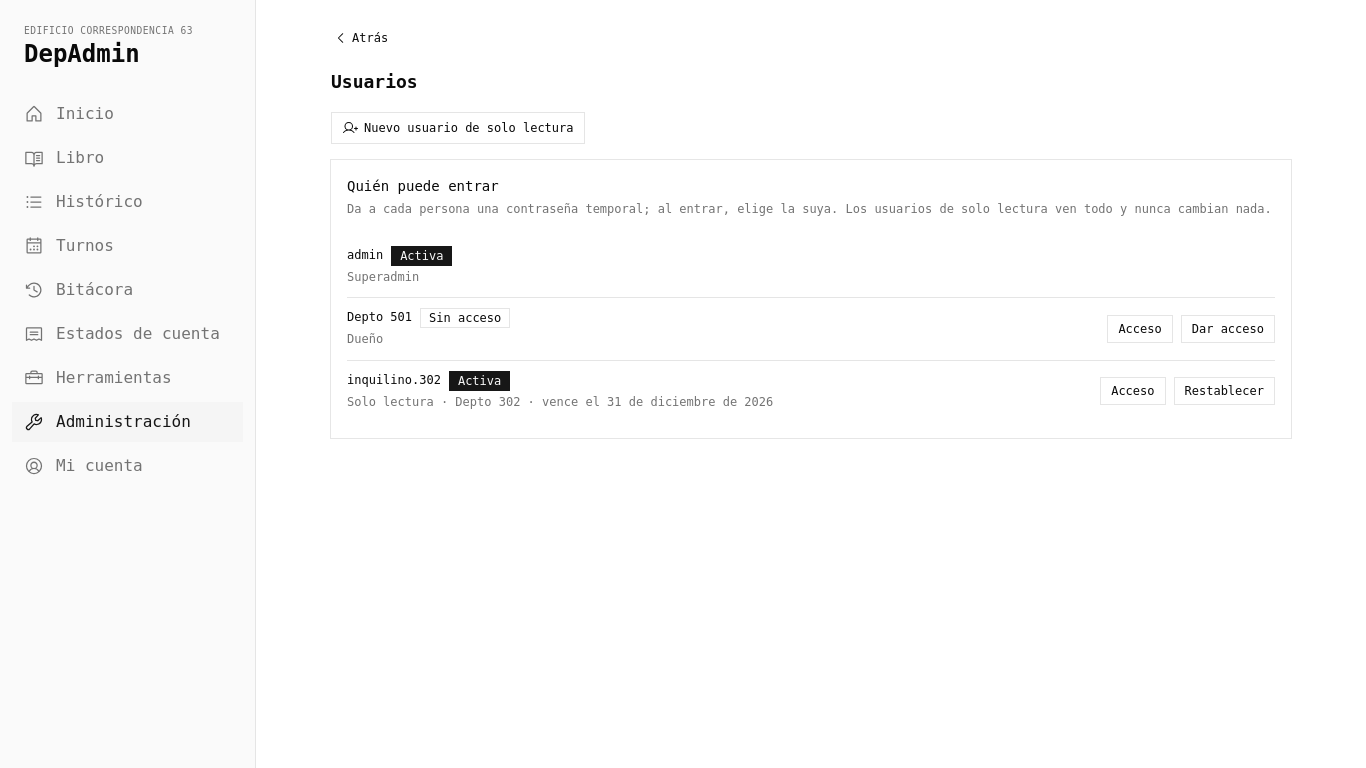
Scenario: UsersPage › creates a read-only user and shows its temporary password once
Click the button "Nuevo usuario de solo lectura": (458, 128) [331,112,584,144]
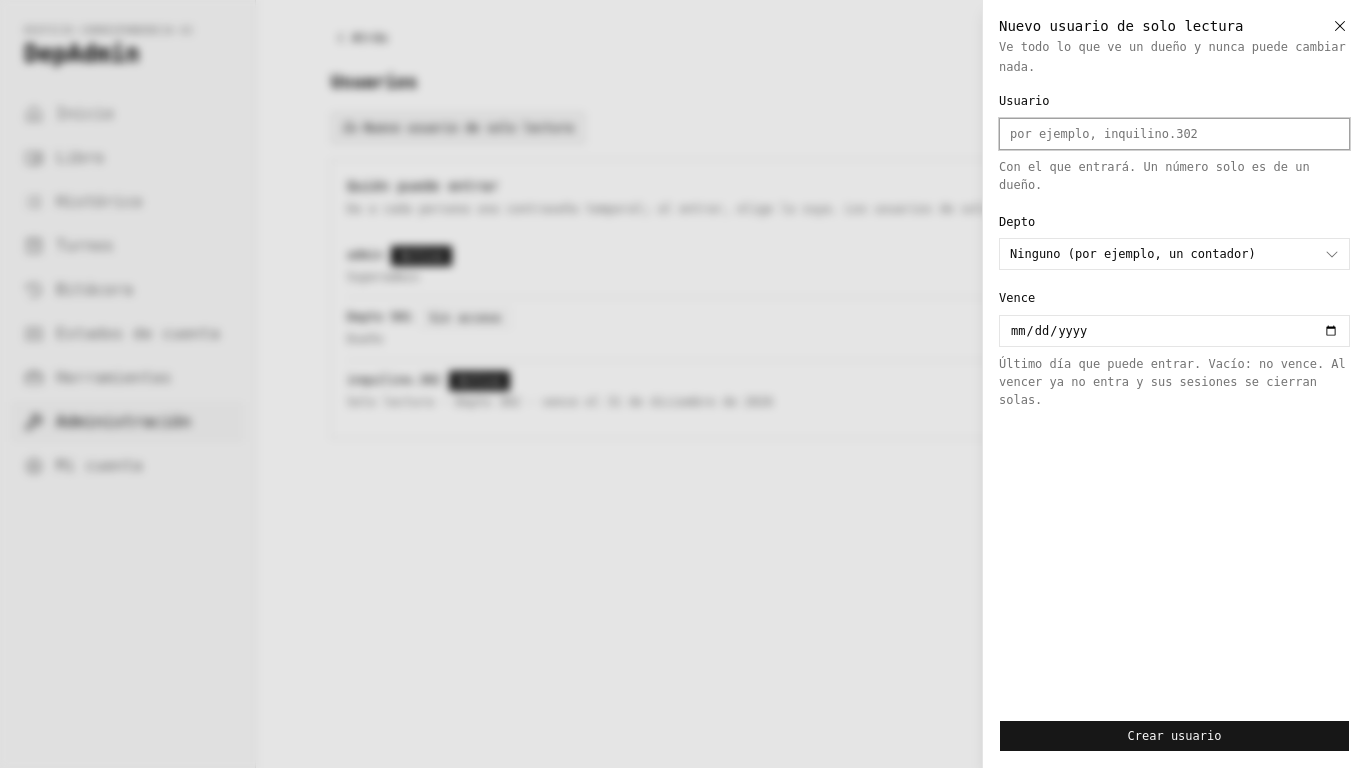
In the field labelled "Usuario": (1174, 134) [999,118,1350,150], type "401"
Click the button "Crear usuario": (1174, 736) [999,720,1350,752]
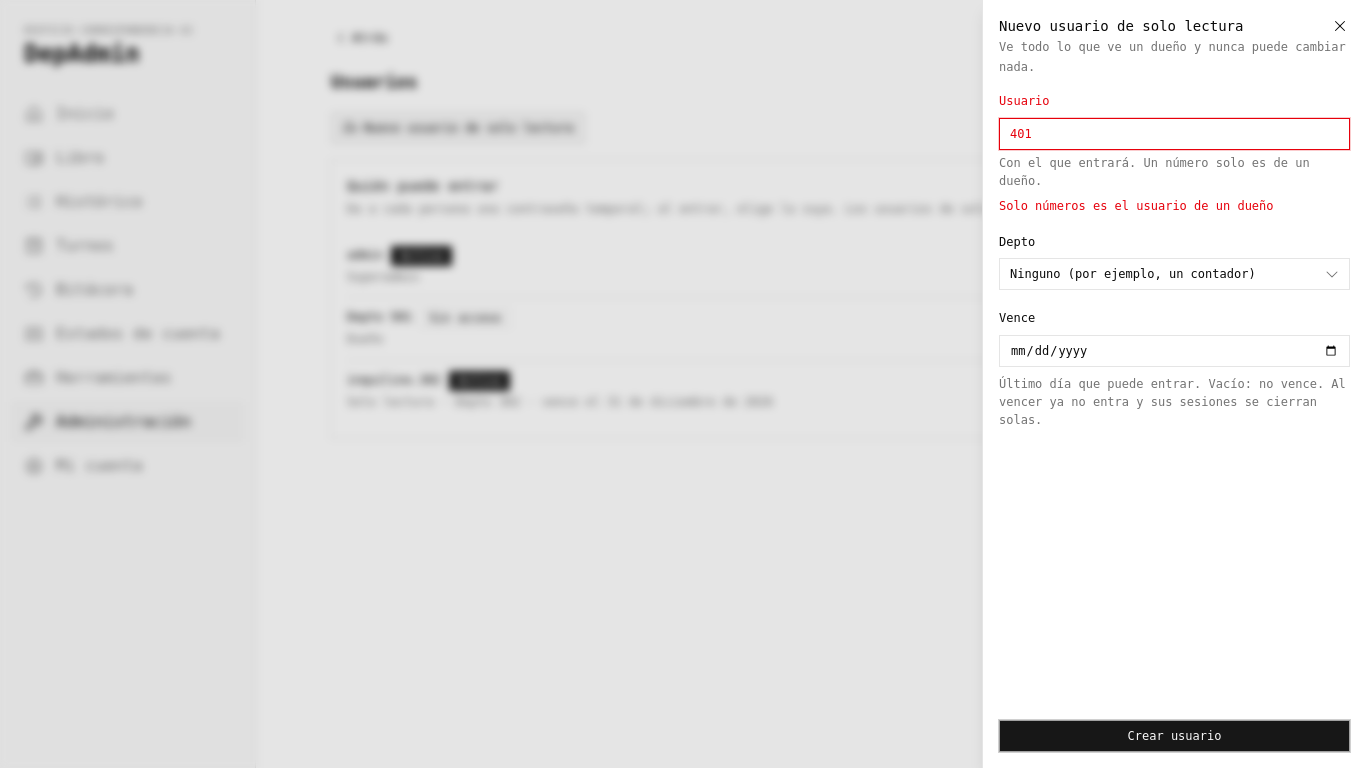
Now the text "Solo números es el usuario de un dueño" is shown, box [999,198,1274,212]
Replace the text in the field labelled "Usuario" with "Familia.401": (1174, 134) [999,118,1350,150]
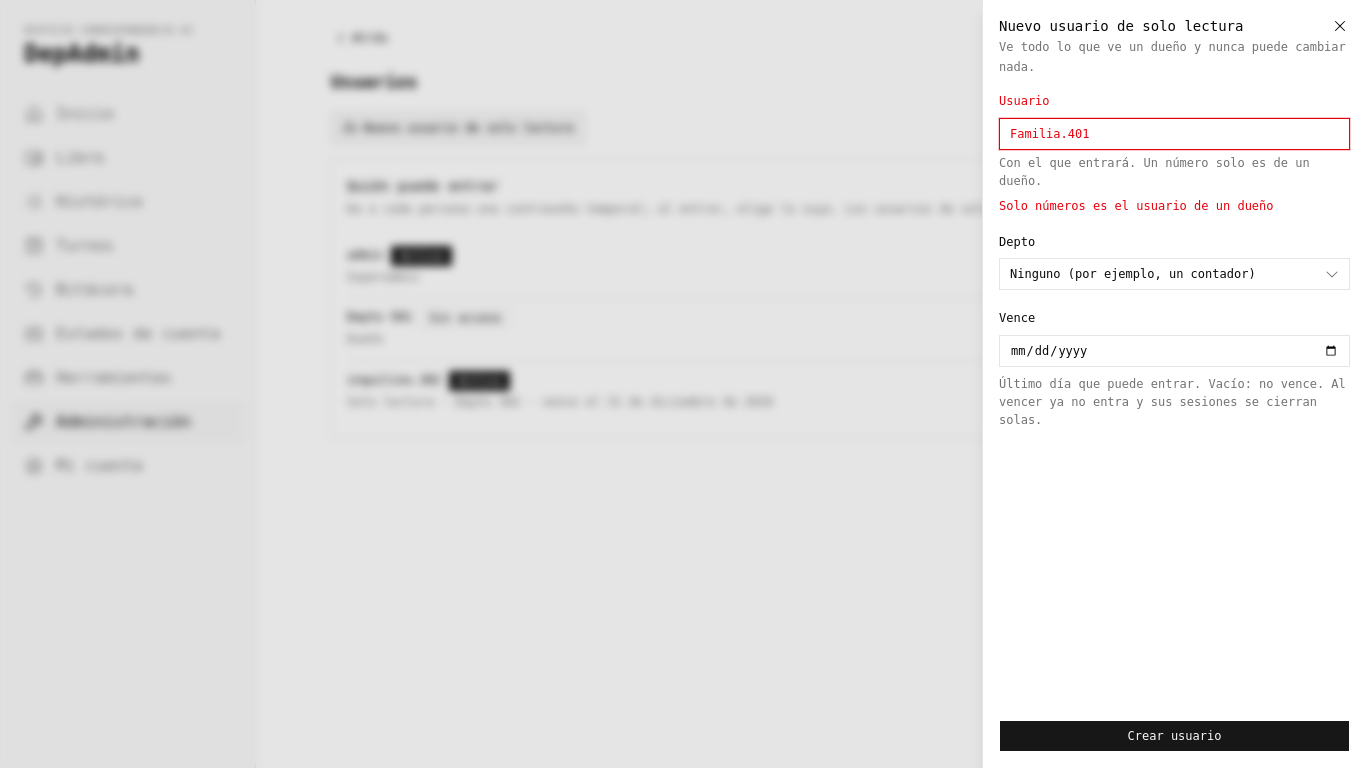
Select "Depto 401" in the dropdown labelled "Depto": (1174, 274) [999,258,1350,290]
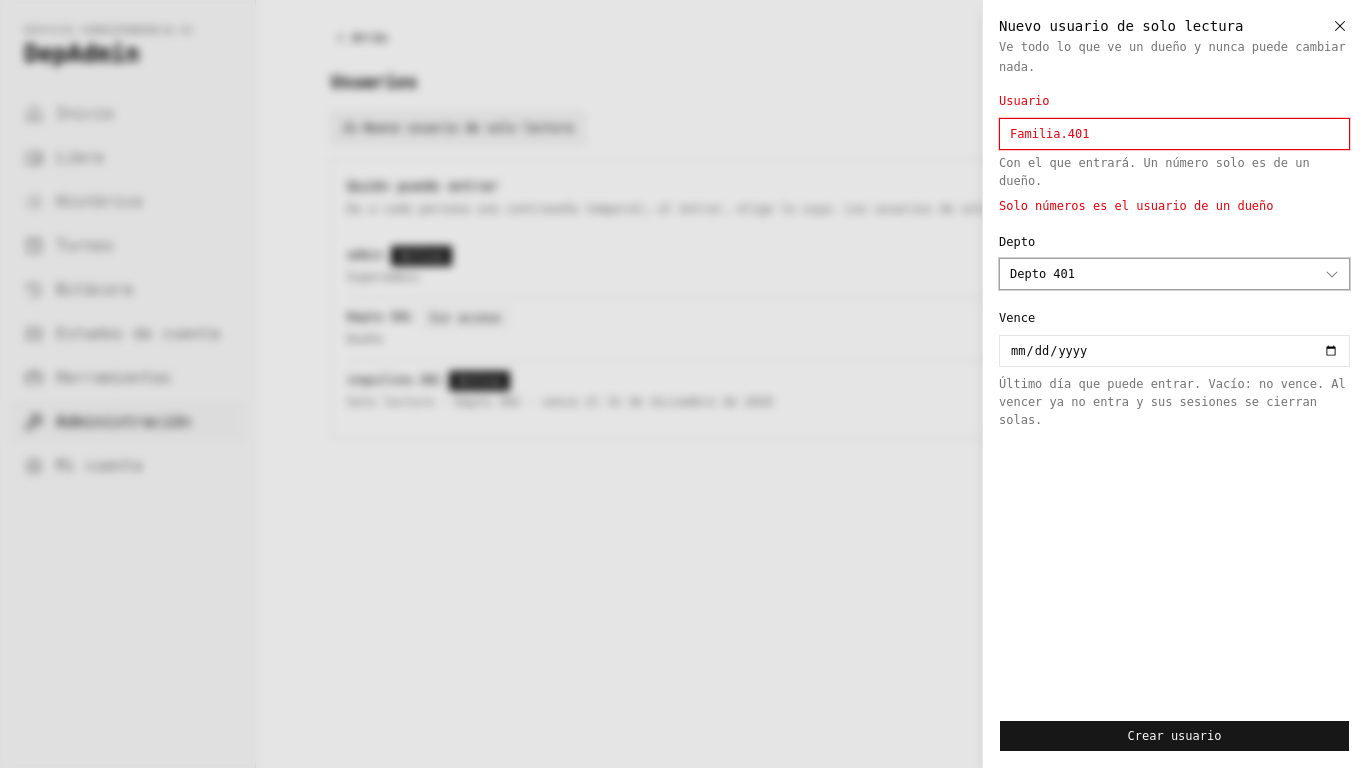
In the date field labelled "Vence": (1174, 350) [999,334,1350,366], type "2027-01-31"
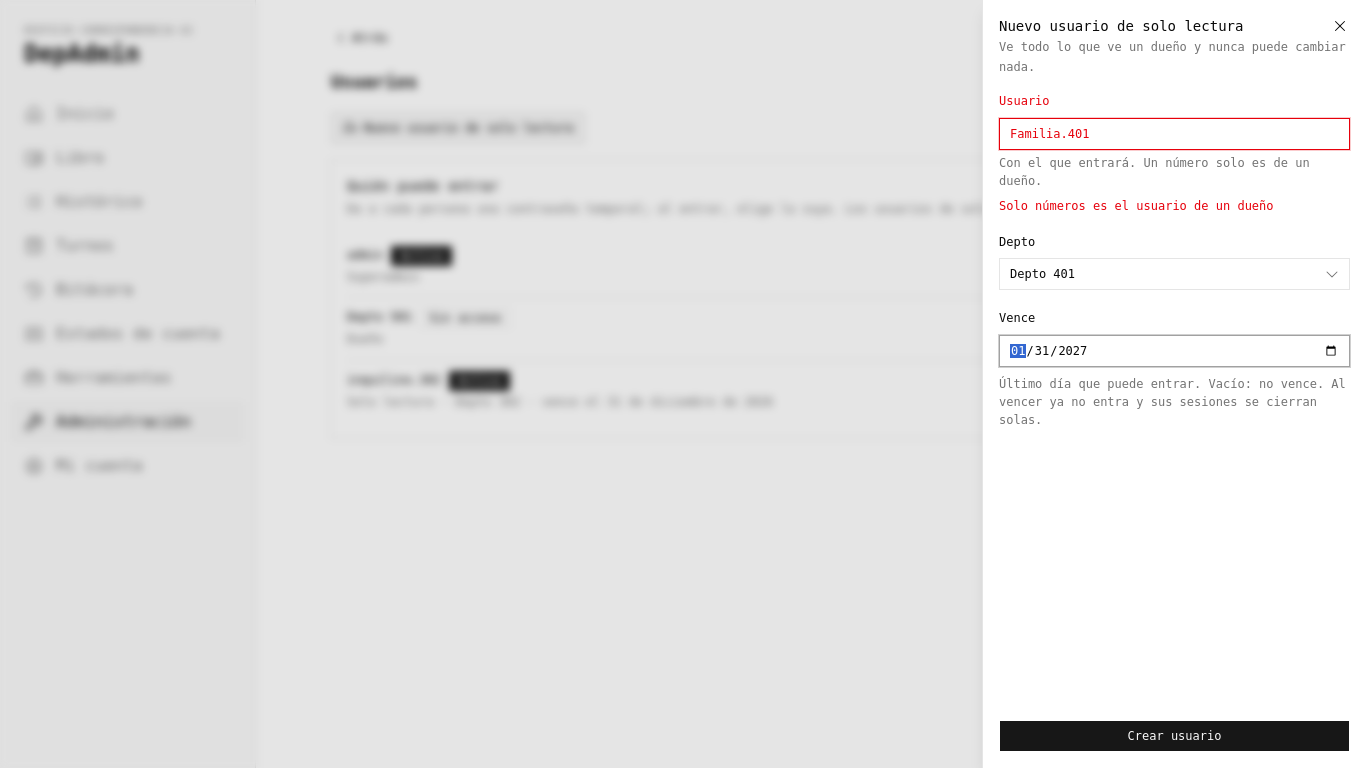
Click the button "Crear usuario": (1174, 736) [999,720,1350,752]
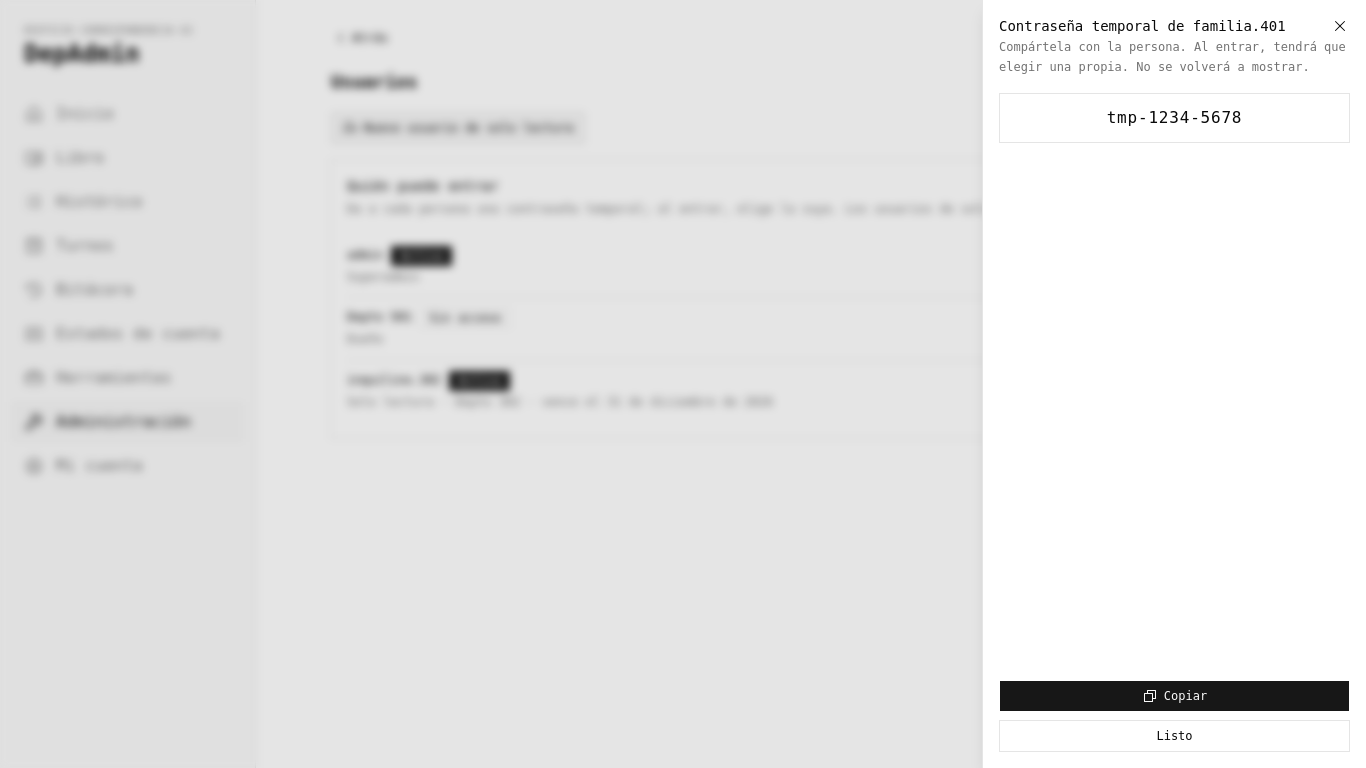
Now the text with test id "temporary-password" reads "tmp-1234-5678", box [1107,108,1242,127]
